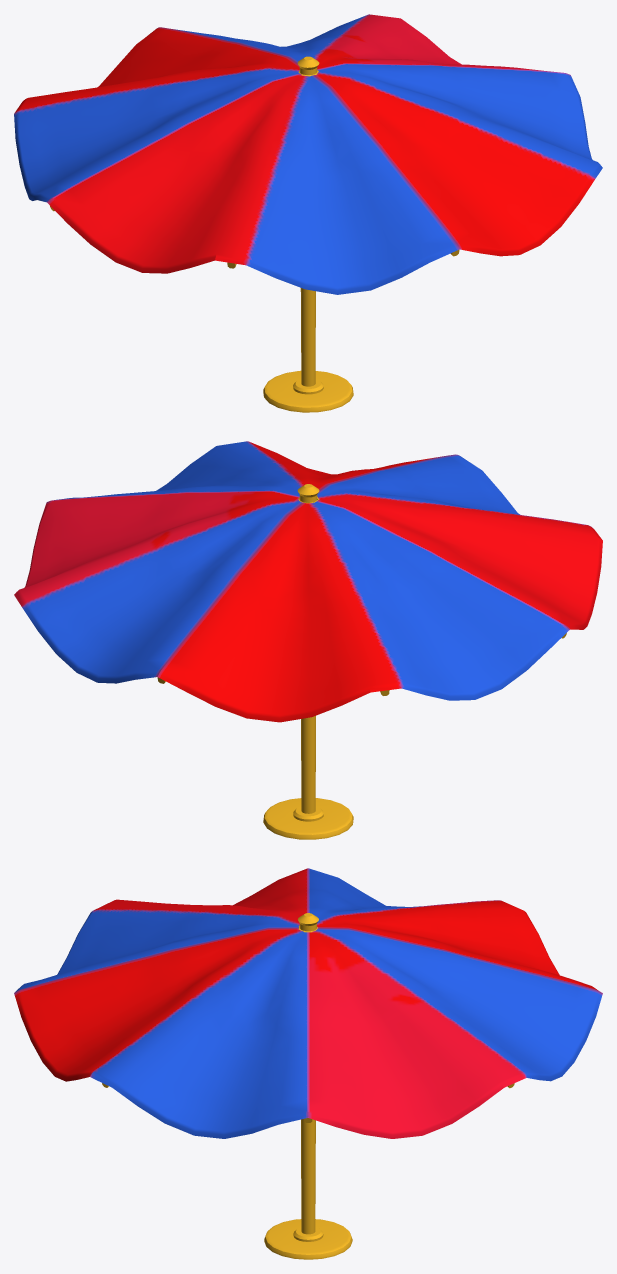
File: Umbrella_BlueRed.fbx
3 views of the same model, one above another, from view 1: azimuth 30°, elevation 25°; view 2: azimuth 150°, elevation 25°; view 3: azimuth 270°, elevation 25° (orthographic). The views are drawn at different scales.
Parts seen in each view (by area): view 1: Umbrella; view 2: Umbrella; view 3: Umbrella.
Part boxes in pixels (<box>): Umbrella: <box>14,14,602,412</box>; Umbrella: <box>14,441,602,839</box>; Umbrella: <box>14,868,602,1259</box>.
Size of the model in its own units: 13.4 by 8.19 by 13.4.
